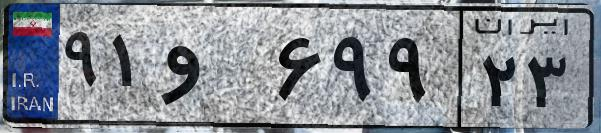1: (110, 28, 158, 98)
2: (475, 38, 525, 113)
3: (525, 38, 570, 115)
6: (270, 28, 330, 110)
9: (385, 28, 445, 110), (330, 28, 385, 110), (57, 26, 110, 100)
و: (158, 20, 270, 120)
